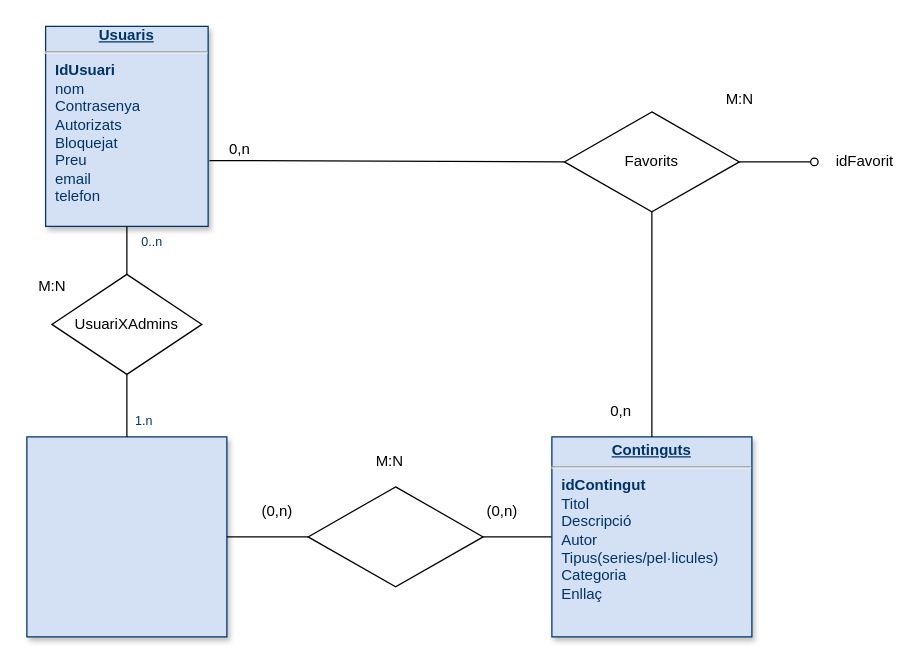
Image size: 924x669. Some labels were removed from this diagram. Each missing label, with the centre of its shape:
"Administradors IdAdministrador Nom" belongs at point (127, 538).
"AdminXContinguts" belongs at point (395, 536).
